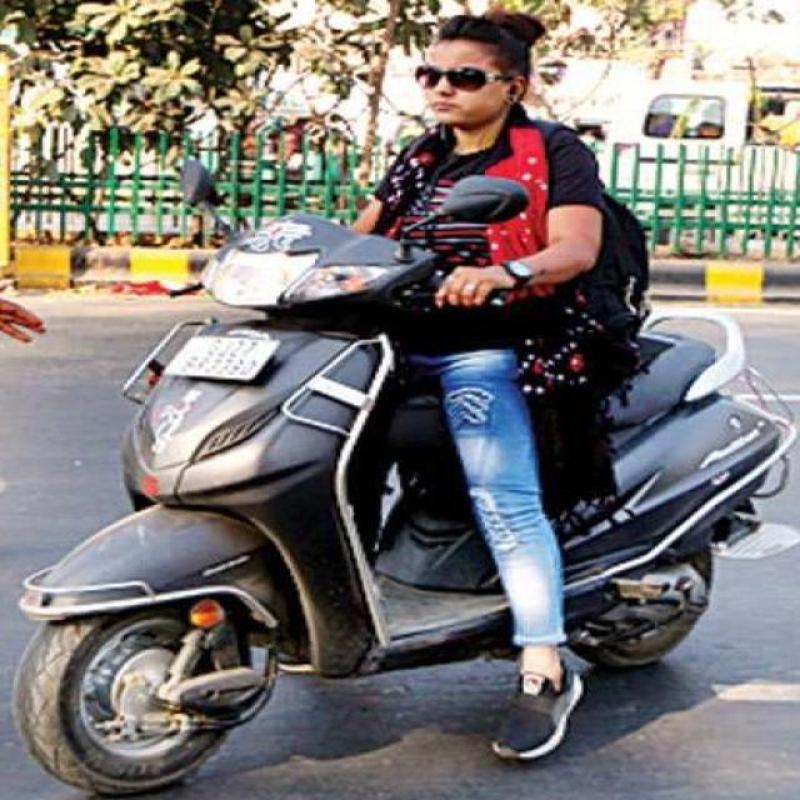nohelmet: (419, 9, 517, 132)
